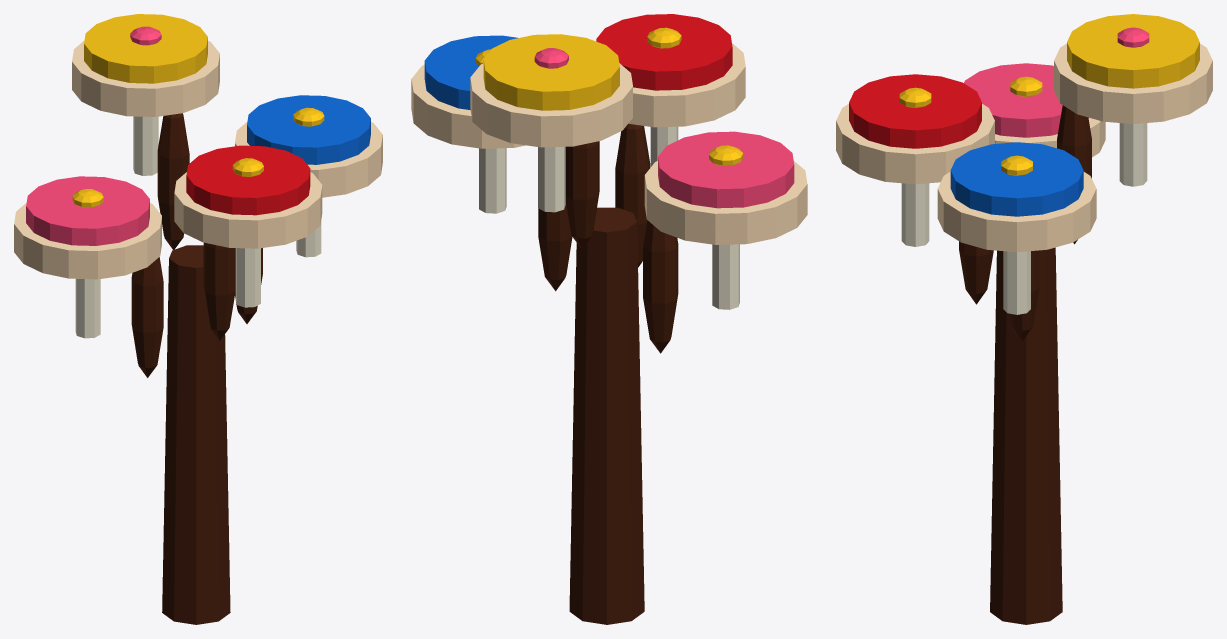
File: arvore_doce.obj
3 views of the same model, side by side, from view 1: azimuth 30°, elevation 25°; view 2: azimuth 150°, elevation 25°; view 3: azimuth 270°, elevation 25° (orthographic). The views are drawn at different scales.
Parts seen in each view (by area): view 1: Trunk, LollipopFace_4, LollipopFace_3, LollipopFace_1, LollipopFace_2, LollipopBack_4, LollipopBack_1, LollipopBack_3, BranchStem_1, BranchStem_3, LollipopBack_2, BranchStem_4 (+4 smaller); view 2: Trunk, LollipopFace_3, LollipopFace_1, LollipopFace_4, LollipopBack_1, LollipopBack_3, LollipopBack_4, BranchStem_1, LollipopFace_2, LollipopBack_2, BranchStem_3, BranchStem_4 (+8 smaller); view 3: Trunk, LollipopFace_2, LollipopFace_4, LollipopFace_3, LollipopBack_2, LollipopBack_3, LollipopBack_4, LollipopFace_1, LollipopStick_4, LollipopStick_3, LollipopStick_2, BranchStem_3 (+7 smaller).
Part boxes in pixels (x1,y1,x2,y2): Trunk: [162, 245, 230, 624]; LollipopFace_4: [186, 145, 310, 215]; LollipopFace_3: [84, 14, 207, 83]; LollipopFace_1: [26, 176, 149, 245]; LollipopFace_2: [247, 95, 370, 164]; LollipopBack_4: [174, 172, 322, 248]; LollipopBack_1: [14, 203, 161, 279]; LollipopBack_3: [72, 40, 219, 116]; BranchStem_1: [131, 257, 163, 377]; BranchStem_3: [157, 113, 189, 249]; LollipopBack_2: [235, 122, 382, 197]; BranchStem_4: [203, 242, 235, 340]; Trunk: [569, 207, 644, 624]; LollipopFace_3: [483, 34, 619, 110]; LollipopFace_1: [658, 131, 794, 208]; LollipopFace_4: [596, 14, 732, 90]; LollipopBack_1: [644, 161, 807, 244]; LollipopBack_3: [470, 63, 632, 147]; LollipopBack_4: [628, 43, 745, 127]; BranchStem_1: [643, 220, 678, 353]; LollipopFace_2: [424, 35, 517, 109]; LollipopBack_2: [411, 64, 525, 148]; BranchStem_3: [565, 141, 599, 249]; BranchStem_4: [615, 123, 650, 267]; Trunk: [990, 247, 1062, 624]; LollipopFace_2: [950, 142, 1083, 216]; LollipopFace_4: [849, 74, 981, 148]; LollipopFace_3: [1067, 14, 1199, 88]; LollipopBack_2: [937, 171, 1096, 252]; LollipopBack_3: [1054, 43, 1212, 123]; LollipopBack_4: [836, 104, 994, 184]; LollipopFace_1: [964, 63, 1088, 137]; LollipopStick_4: [901, 183, 929, 246]; LollipopStick_3: [1119, 123, 1147, 186]; LollipopStick_2: [1003, 251, 1030, 314]; BranchStem_3: [1057, 105, 1091, 244].
Bounding box in the file's own units: 2.3 × 3.46 × 2.04.
